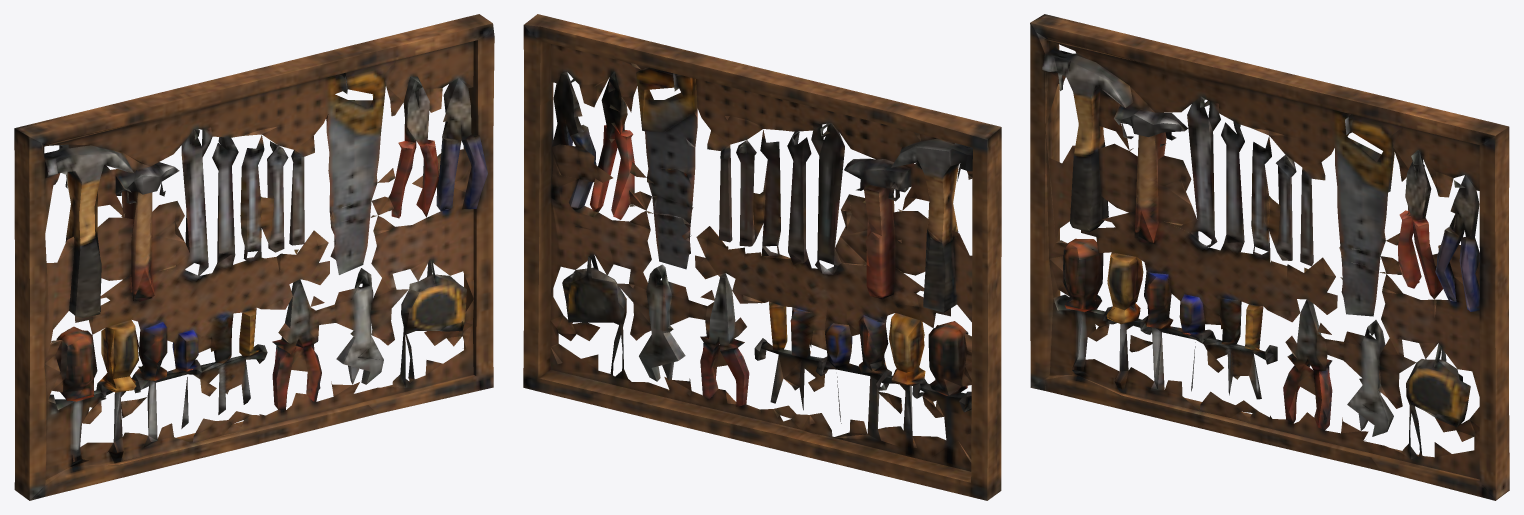
The model's file is p7-tool-pegboard.glb.
3 renders of one model, left to right at view 1: azimuth 30°, elevation 25°; view 2: azimuth 150°, elevation 25°; view 3: azimuth 330°, elevation 25°, orthographic.
Parts seen in each view (by area): view 1: p7-tool-pegboard; view 2: p7-tool-pegboard; view 3: p7-tool-pegboard.
Part boxes in pixels (bbox=[...]): p7-tool-pegboard: bbox=[14, 14, 494, 500]; p7-tool-pegboard: bbox=[523, 14, 1001, 500]; p7-tool-pegboard: bbox=[1030, 14, 1509, 500].
Size of the model in its own units: 1.2 by 0.9 by 0.12.
1 material, 1 textured.
